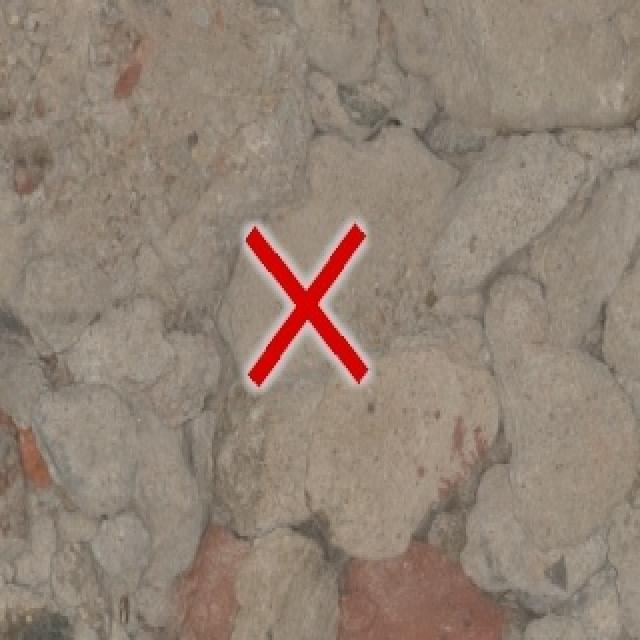x_marker: (245, 223, 367, 385)
